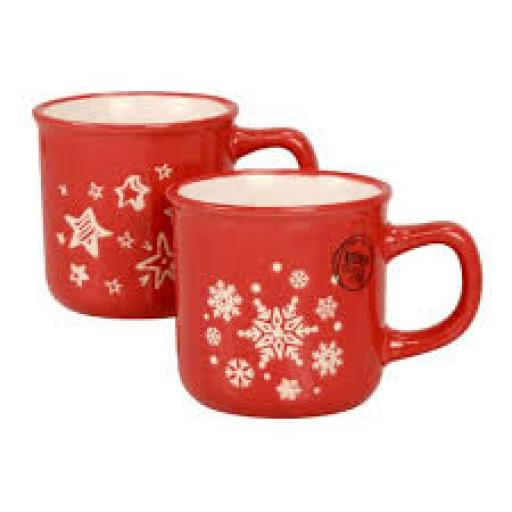red mug: (171, 171, 480, 416), (34, 91, 316, 314)
